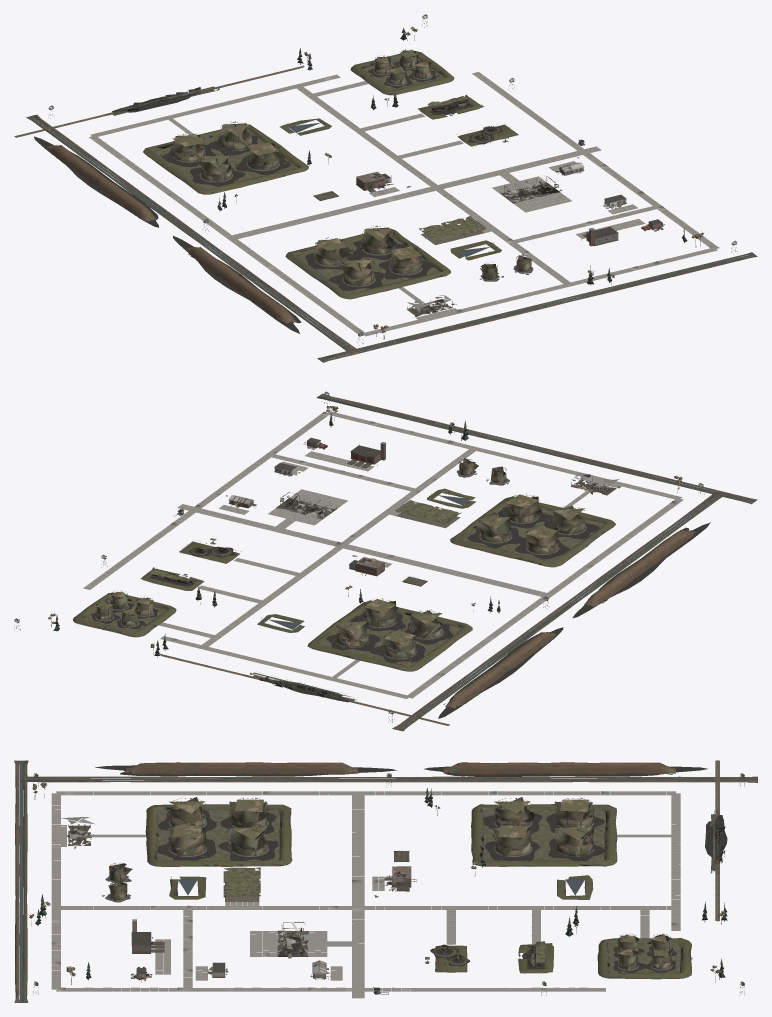
File: site_fuel_a_lo.glb
The picture shows the model from 3 angles, top to bottom: view 1: azimuth 30°, elevation 25°; view 2: azimuth 150°, elevation 25°; view 3: azimuth 270°, elevation 25°; orthographic projection. The views are drawn at different scales.
Parts seen in each view (by area): view 1: deco|F_A, deco|tile_conc, b_peat|F_A, deco|F_glassF, b_peat_ruin|F_B, deco_trees|F_A, b_uzk_ruin|F_B, b_rgs_ruin|F_B, b_t6_ruin|F_B, b_t5_ruin|F_B, b_t1_ruin|F_B, b_t3_ruin|F_B (+8 smaller); view 2: deco|F_A, deco|tile_conc, b_peat|F_A, deco|F_glassF, b_peat_ruin|F_B, deco_trees|F_A, b_uzk_ruin|F_B, b_t3_ruin|F_B, b_t4_ruin|F_B, b_fire|F_A, b_t8_ruin|F_B, b_t7|F_A (+10 smaller); view 3: deco|F_A, deco|tile_conc, b_peat|F_A, deco|F_glassF, b_peat_ruin|F_B, deco_trees|F_A, b_t4_ruin|F_B, b_t8_ruin|F_B, b_uzk_ruin|F_B, b_t2|F_A, b_t6|F_A, b_t7|F_A (+21 smaller).
Boxes of the visible parts, x1,y1,x2,y2 form: deco|F_A: (14, 14, 757, 362); deco|tile_conc: (89, 72, 719, 336); b_peat|F_A: (47, 145, 296, 323); deco|F_glassF: (30, 16, 755, 360); b_peat_ruin|F_B: (34, 136, 301, 333); deco_trees|F_A: (217, 26, 703, 339); b_uzk_ruin|F_B: (103, 86, 219, 115); b_rgs_ruin|F_B: (420, 98, 481, 118); b_t6_ruin|F_B: (379, 257, 432, 279); b_t5_ruin|F_B: (329, 267, 384, 290); b_t1_ruin|F_B: (189, 163, 245, 186); b_t3_ruin|F_B: (160, 144, 215, 167); deco|F_A: (14, 391, 757, 731); deco|tile_conc: (83, 411, 683, 698); b_peat|F_A: (445, 530, 697, 708); deco|F_glassF: (14, 393, 754, 730); b_peat_ruin|F_B: (438, 522, 710, 718); deco_trees|F_A: (48, 406, 682, 657); b_uzk_ruin|F_B: (244, 674, 360, 704); b_t3_ruin|F_B: (369, 642, 425, 663); b_t4_ruin|F_B: (326, 630, 380, 650); b_fire|F_A: (347, 442, 385, 468); b_t8_ruin|F_B: (467, 526, 523, 548); b_t7|F_A: (525, 525, 558, 554); deco|F_A: (14, 760, 757, 1002); deco|tile_conc: (51, 791, 691, 998); b_peat|F_A: (126, 762, 675, 774); deco|F_glassF: (19, 760, 757, 1002); b_peat_ruin|F_B: (95, 765, 707, 776); deco_trees|F_A: (29, 782, 727, 984); b_t4_ruin|F_B: (548, 834, 604, 860); b_t8_ruin|F_B: (218, 834, 278, 860); b_uzk_ruin|F_B: (705, 810, 727, 874); b_t2|F_A: (493, 824, 531, 856); b_t6|F_A: (167, 824, 206, 856); b_t7|F_A: (229, 797, 267, 827).
Bounding box in the file's own units: 370 × 20.4 × 480.
Materials: 71 (53 with a texture image).
